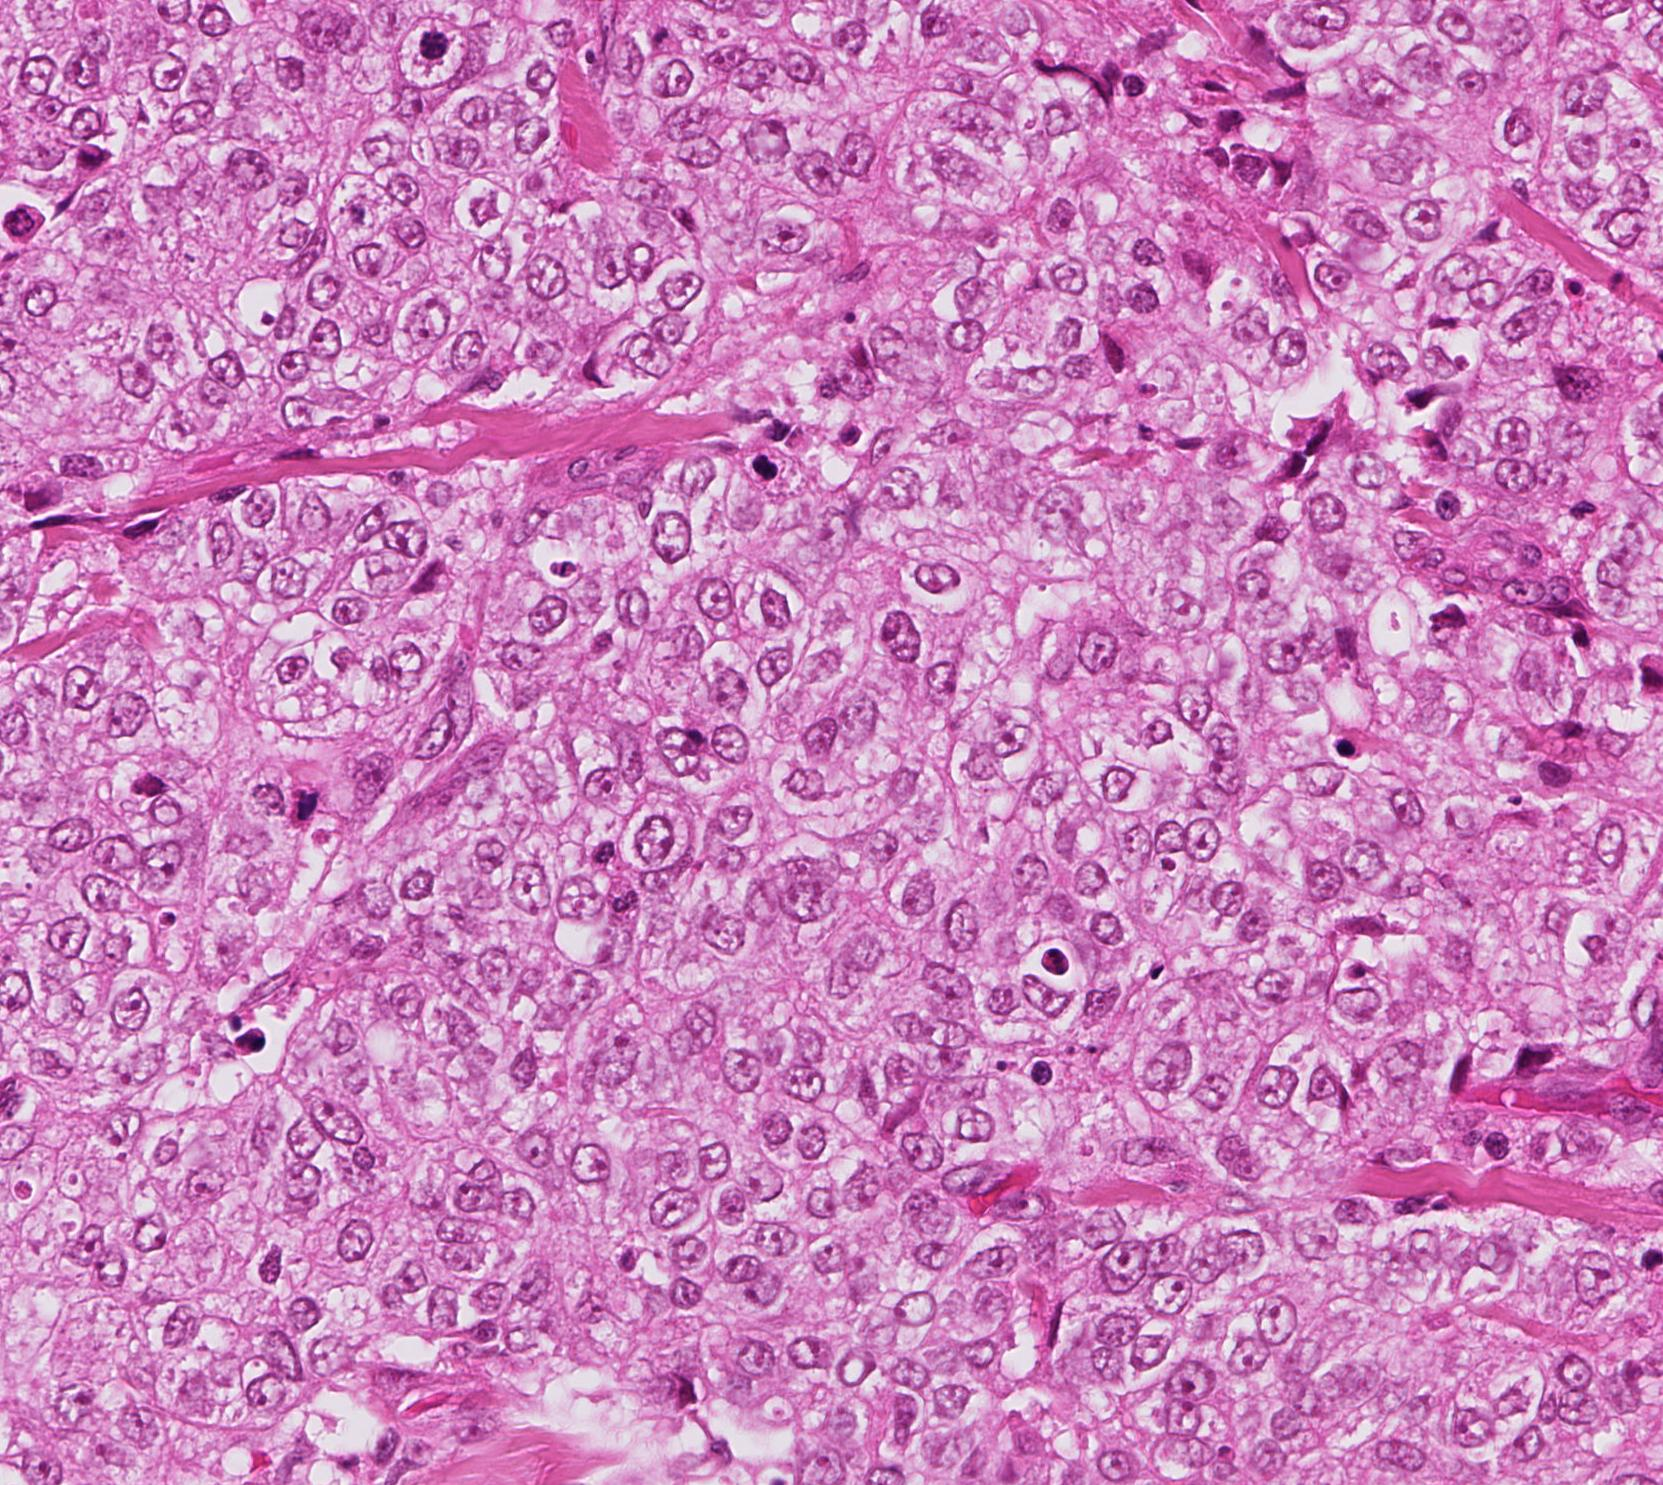mitosis: (403, 9, 463, 67)
